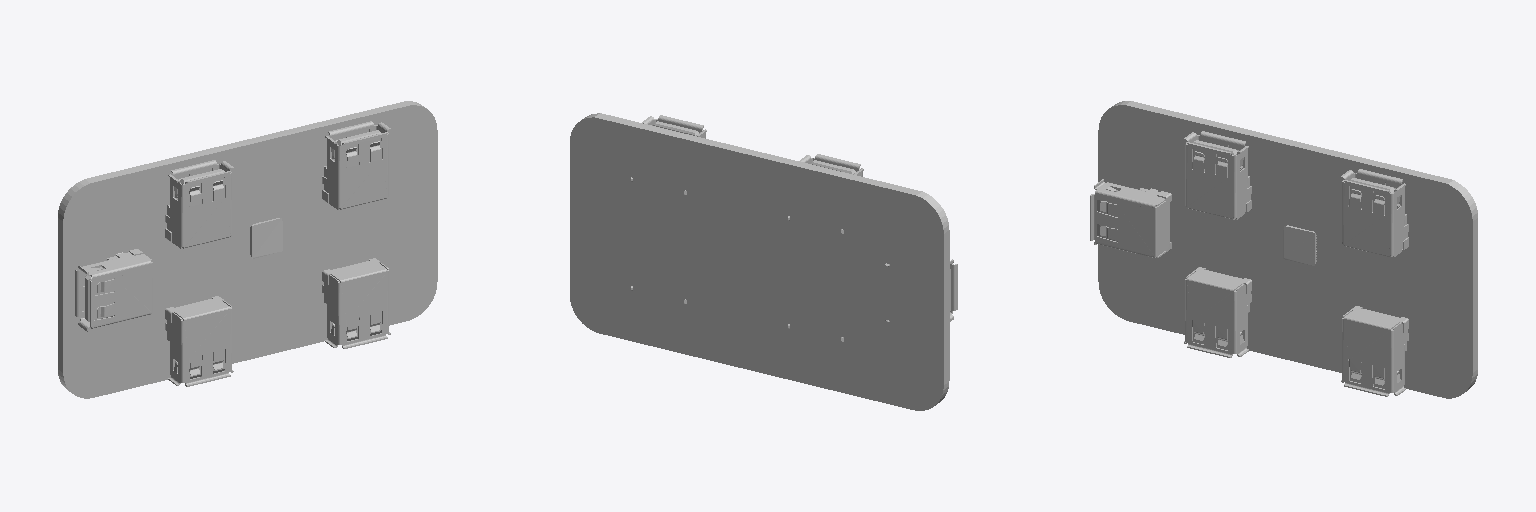
Rendered from OBJ_PCB_USB-A Hub.obj.
3 renders of one model, left to right at view 1: azimuth 30°, elevation 25°; view 2: azimuth 150°, elevation 25°; view 3: azimuth 330°, elevation 25°, orthographic.
Size of the model in its own units: 377 by 207 by 43.1.